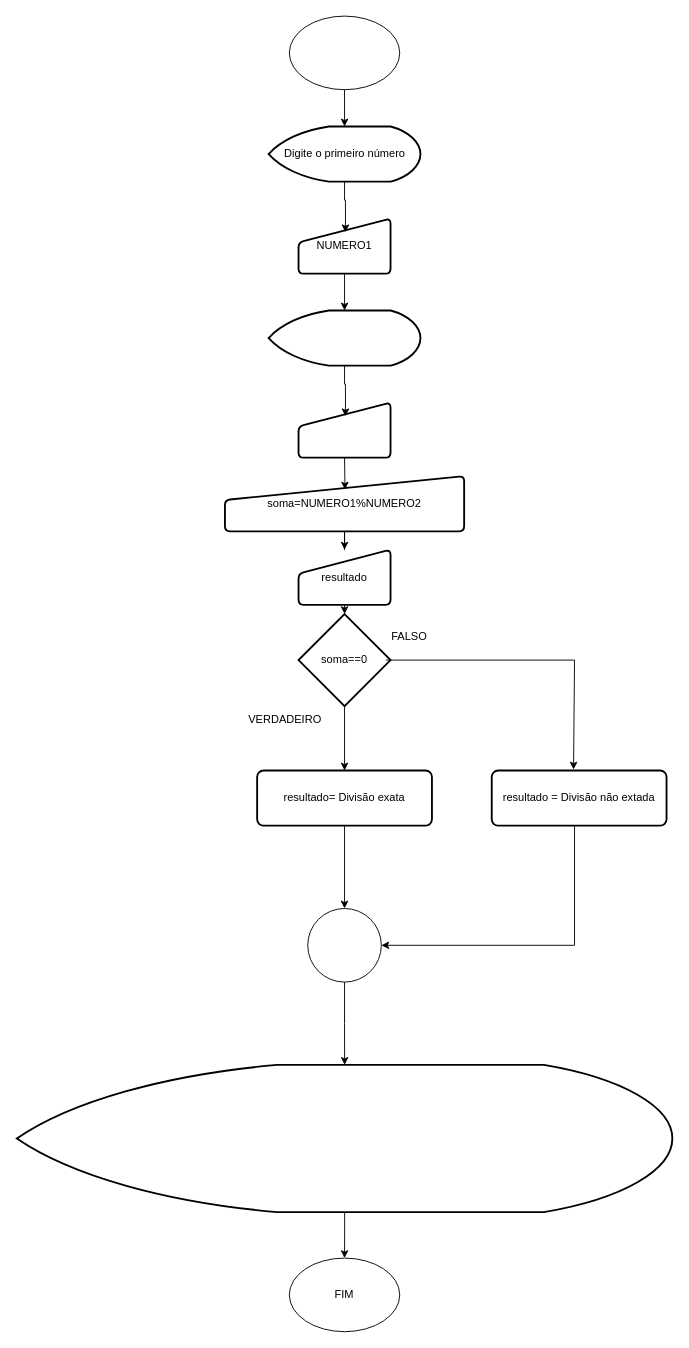
The diagram is 689 pixels wide and 1348 high, and some of its shapes have lost their labels. Each missing label, with the centre of its shape:
"A divisão entre" + NUMERO1 " e " + NUMERO2 " é " + resultado: the point at 344,1138
Digite o segundo numero: the point at 344,337
INICIO: the point at 344,52
NUMERO2: the point at 344,429
